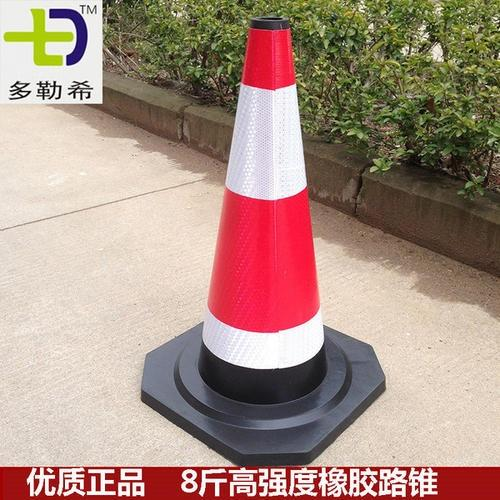cone_barrel: (189, 21, 341, 407)
